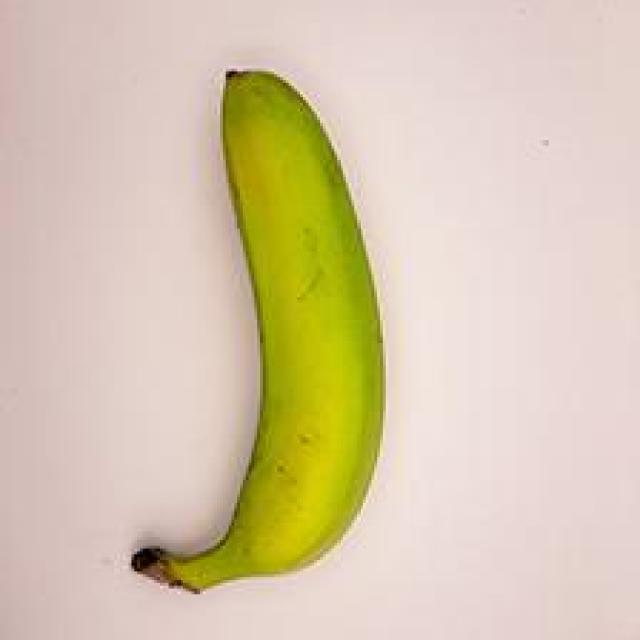unripe: (103, 48, 414, 611)
